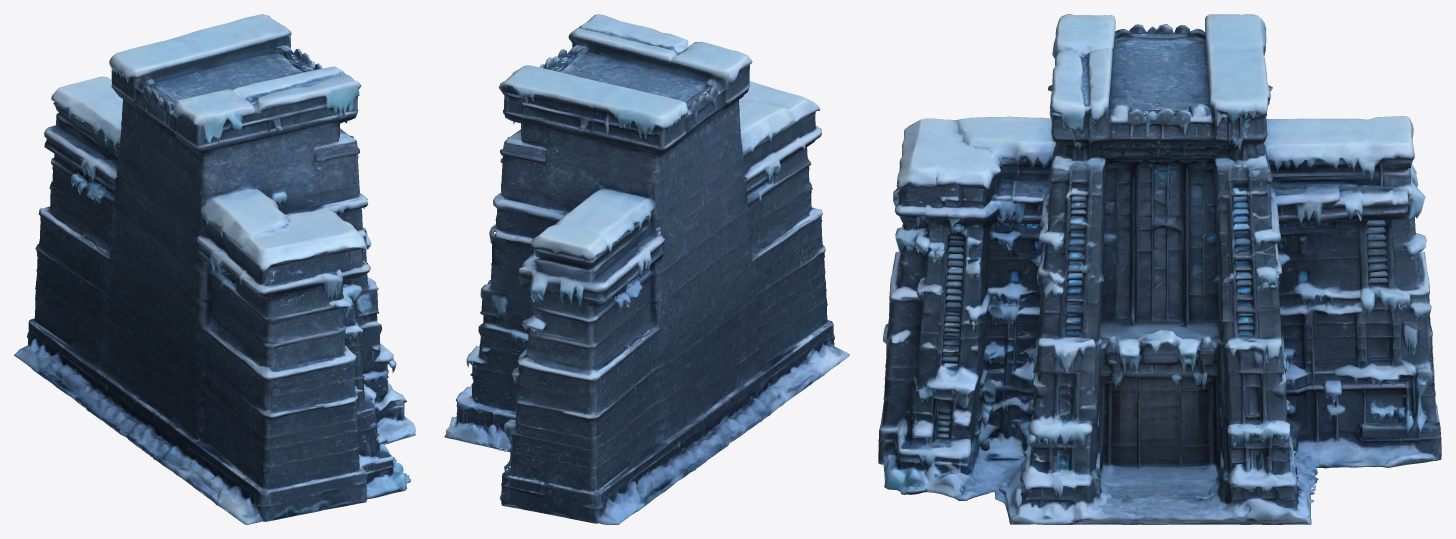
The model's file is fort_arctic_gate.glb.
3 views of the same model, side by side, from view 1: azimuth 30°, elevation 25°; view 2: azimuth 150°, elevation 25°; view 3: azimuth 270°, elevation 25° (orthographic). The views are drawn at different scales.
Visible parts, largest first — view 1: tripo_node_7a1e24c9-666e-4bec-81e2-a8edc00396ec; view 2: tripo_node_7a1e24c9-666e-4bec-81e2-a8edc00396ec; view 3: tripo_node_7a1e24c9-666e-4bec-81e2-a8edc00396ec.
Part boxes in pixels (x1,y1,x2,y2): tripo_node_7a1e24c9-666e-4bec-81e2-a8edc00396ec: (14, 14, 415, 524); tripo_node_7a1e24c9-666e-4bec-81e2-a8edc00396ec: (444, 14, 849, 524); tripo_node_7a1e24c9-666e-4bec-81e2-a8edc00396ec: (878, 14, 1441, 524).
Bounding box in the file's own units: 0.5381 × 0.7883 × 1.
1 material, 1 textured.
